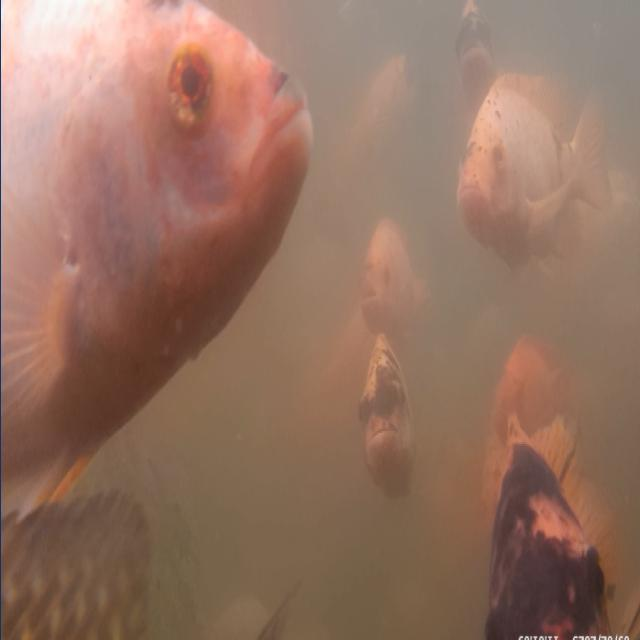ikan: (20, 8, 327, 416), (433, 49, 620, 264), (355, 334, 432, 482), (354, 195, 434, 328)
